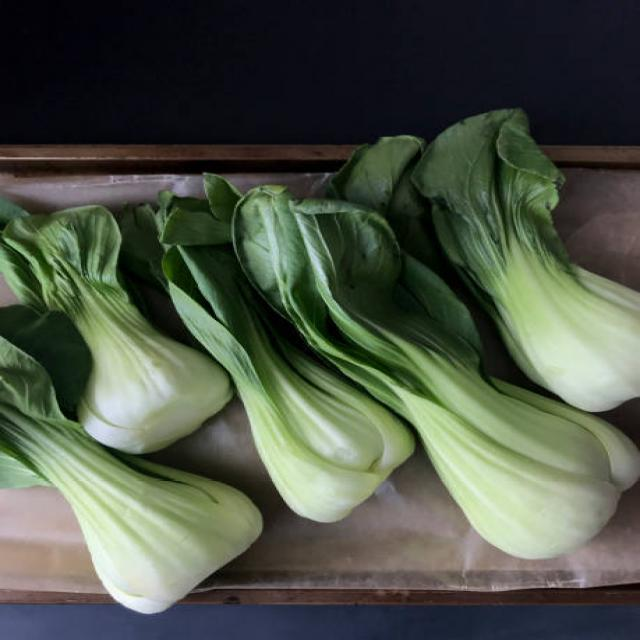Bok Choy: (433, 78, 640, 369), (405, 383, 640, 591), (228, 264, 420, 511), (22, 418, 236, 614), (83, 204, 165, 427)
